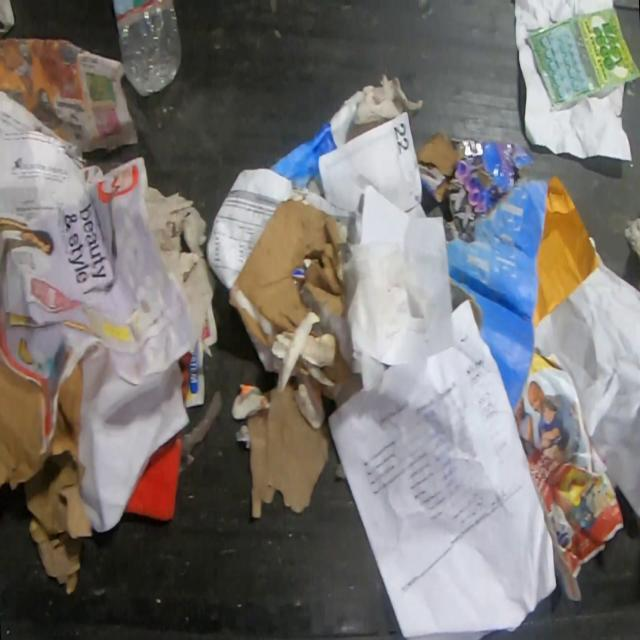cardboard: (0, 349, 94, 596), (232, 198, 350, 333), (416, 128, 465, 204), (321, 340, 352, 384)
rigid_plastic: (112, 0, 183, 97)
soft_plastic: (452, 135, 534, 218), (623, 216, 640, 260)
